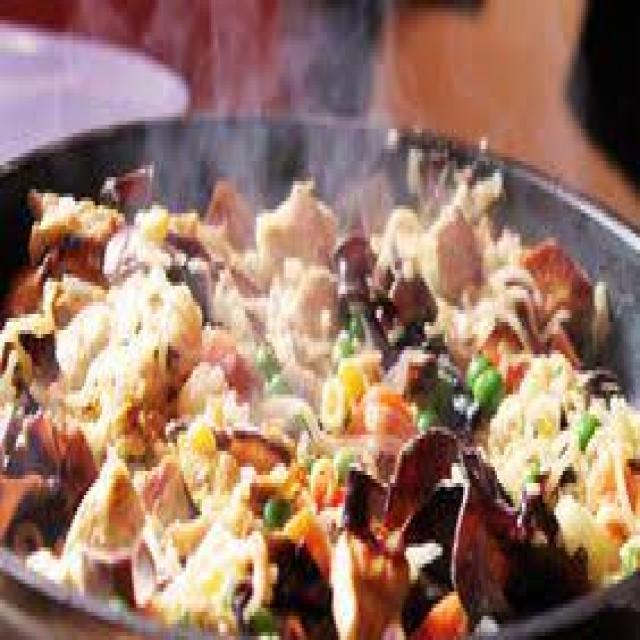organic waste: (100, 157, 538, 636), (0, 185, 154, 547), (513, 233, 638, 604), (32, 539, 122, 592)
